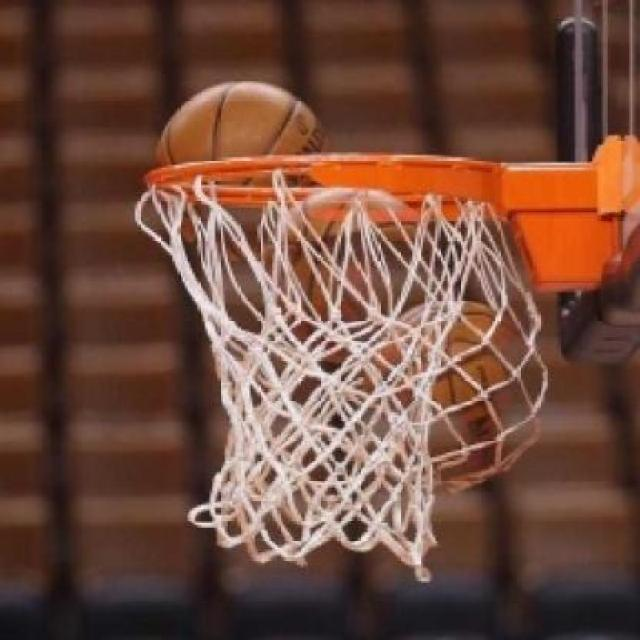basketball: (148, 72, 334, 260), (376, 294, 538, 494), (268, 181, 437, 361)
rim: (144, 151, 516, 574)
